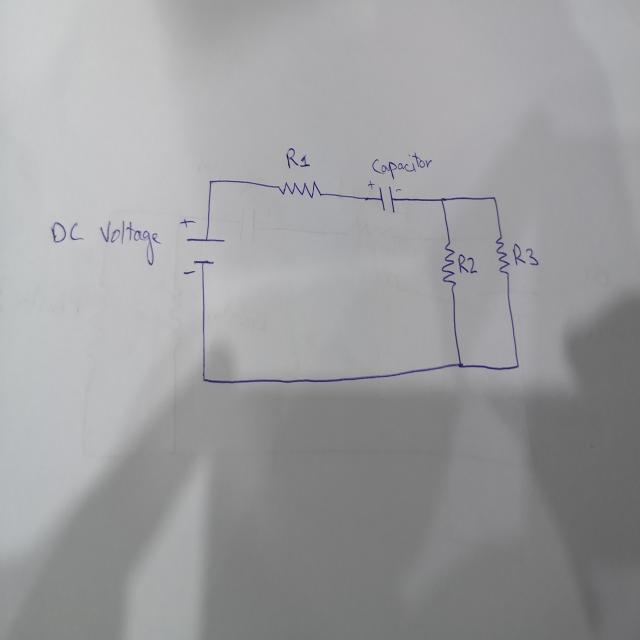capacitor: (366, 178, 404, 215)
junction: (199, 368, 210, 386), (455, 356, 466, 374), (512, 355, 522, 373), (489, 192, 499, 204), (438, 193, 447, 206), (206, 176, 214, 188)
resistor: (277, 178, 323, 199), (440, 238, 456, 292), (495, 232, 509, 278)
source: (184, 233, 226, 267)
text: (49, 217, 162, 270), (370, 152, 429, 178), (512, 241, 540, 268), (284, 146, 310, 169), (458, 252, 478, 276)
